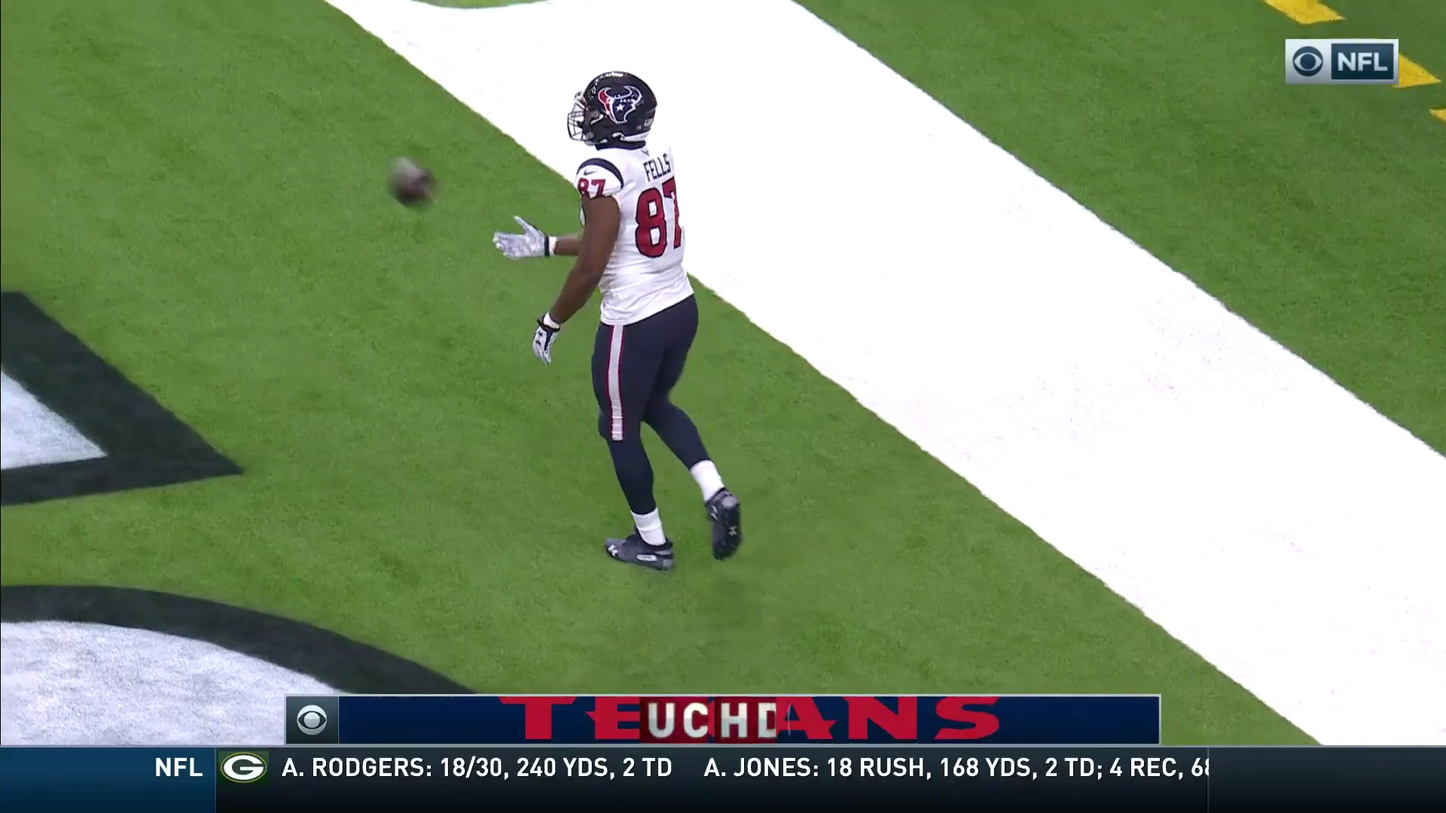Player: (537, 93, 701, 524)
